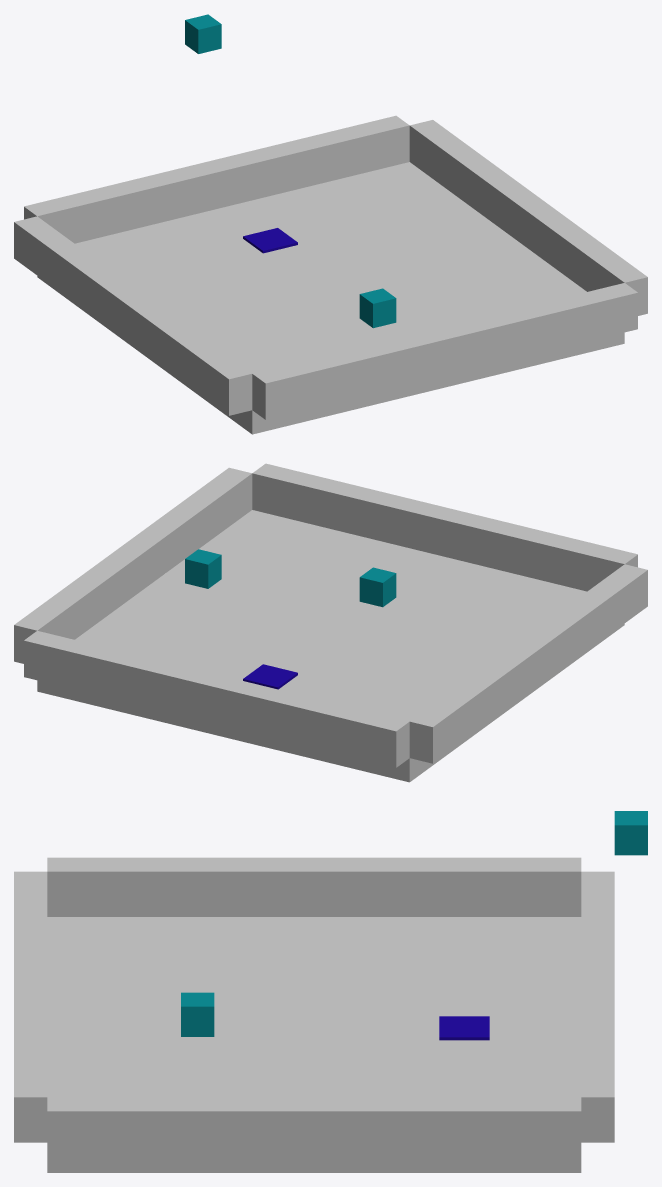
File: world.obj
3 renders of one model, top to bottom at view 1: azimuth 30°, elevation 25°; view 2: azimuth 150°, elevation 25°; view 3: azimuth 270°, elevation 25°, orthographic. The views are drawn at different scales.
Parts seen in each view (by area): view 1: Floor.001_Cube.002, Boundary.001_Cube.000, Boundary.002_Cube.003, Boundary.004_Cube.005, Boundary.003_Cube.004, Marker.Spawn_Cube.016, Light.0.000_Cube.001, Activator.Exit.level2_Maze_Cube.006; view 2: Floor.001_Cube.002, Boundary.002_Cube.003, Boundary.001_Cube.000, Boundary.004_Cube.005, Boundary.003_Cube.004, Marker.Spawn_Cube.016, Light.0.000_Cube.001, Activator.Exit.level2_Maze_Cube.006; view 3: Floor.001_Cube.002, Boundary.003_Cube.004, Boundary.004_Cube.005, Boundary.002_Cube.003, Boundary.001_Cube.000, Light.0.000_Cube.001, Marker.Spawn_Cube.016, Activator.Exit.level2_Maze_Cube.006.
Part boxes in pixels (x1,y1,x2,y2): Floor.001_Cube.002: (37,162,624,434); Boundary.001_Cube.000: (252,283,637,419); Boundary.002_Cube.003: (24,115,409,243); Boundary.004_Cube.005: (14,216,252,415); Boundary.003_Cube.004: (409,120,647,315); Marker.Spawn_Cube.016: (359,288,396,328); Light.0.000_Cube.001: (185,14,221,53); Activator.Exit.level2_Maze_Cube.006: (243,228,297,253); Floor.001_Cube.002: (37,510,624,782); Boundary.002_Cube.003: (24,630,409,767); Boundary.001_Cube.000: (252,463,637,591); Boundary.004_Cube.005: (409,564,647,763); Boundary.003_Cube.004: (14,467,252,663); Marker.Spawn_Cube.016: (359,567,396,607); Light.0.000_Cube.001: (185,549,221,588); Activator.Exit.level2_Maze_Cube.006: (243,664,297,689); Floor.001_Cube.002: (47,917,581,1172); Boundary.003_Cube.004: (47,1097,581,1156); Boundary.004_Cube.005: (47,857,581,916); Boundary.002_Cube.003: (581,871,614,1142); Boundary.001_Cube.000: (14,871,47,1142); Light.0.000_Cube.001: (614,811,647,855); Marker.Spawn_Cube.016: (181,992,214,1036); Activator.Exit.level2_Maze_Cube.006: (439,1016,489,1040).
Size of the model in its own units: 18 by 8 by 19.
